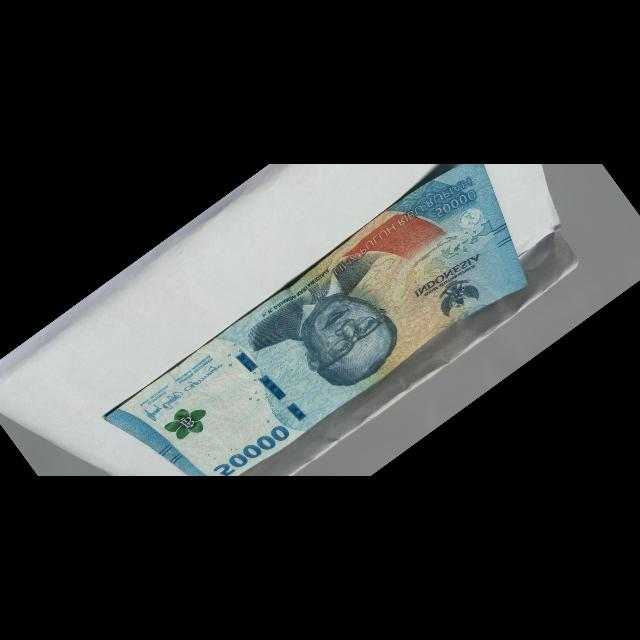Palsu-50k: (94, 164, 531, 528)
Tinta-Palsu-50k: (160, 394, 216, 449)
